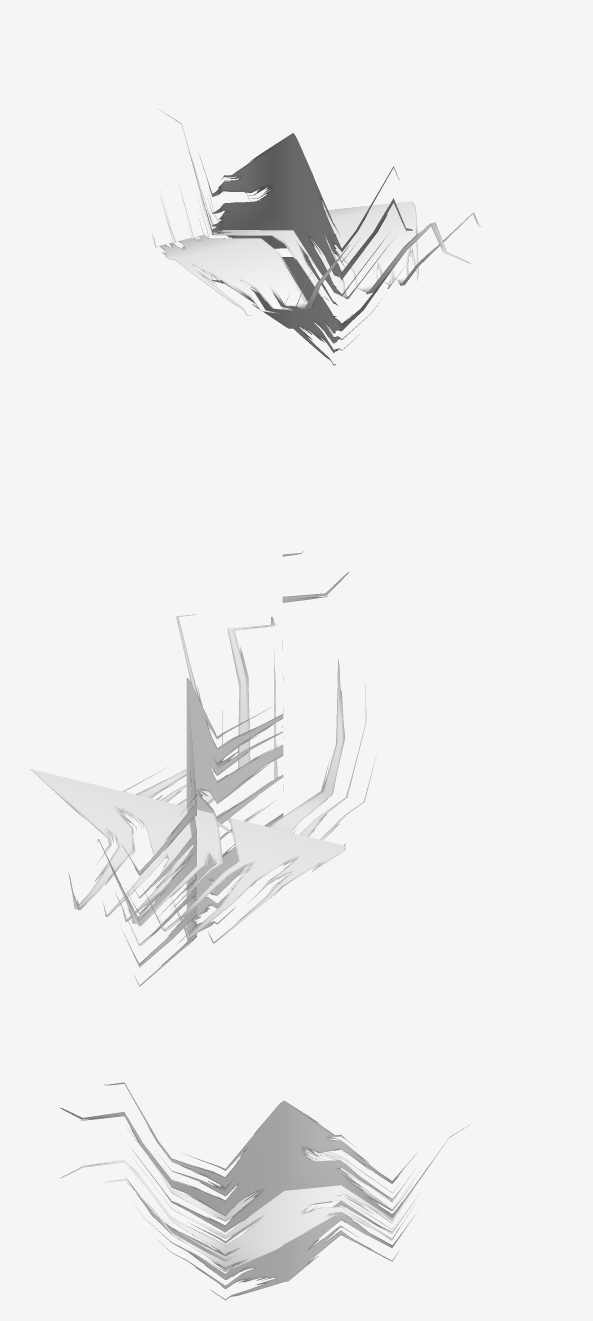
The model's file is eff_tun001_mesh.fbx.
3 renders of one model, top to bottom at view 1: azimuth 30°, elevation 25°; view 2: azimuth 150°, elevation 25°; view 3: azimuth 270°, elevation 25°, orthographic. The views are drawn at different scales.
Visible parts, largest first — view 1: eff_tun001_mesh; view 2: eff_tun001_mesh; view 3: eff_tun001_mesh.
Part boxes in pixels (box(x1,y1,x2,y2)): eff_tun001_mesh: box(151, 111, 481, 365); eff_tun001_mesh: box(30, 551, 375, 986); eff_tun001_mesh: box(59, 1082, 469, 1300).
Size of the model in its own units: 219 by 188 by 349.
